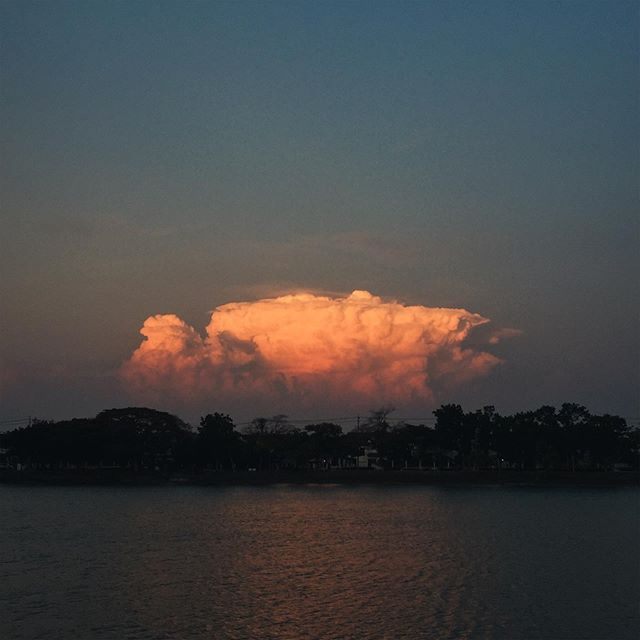river: (1, 483, 617, 640)
sky: (1, 1, 640, 410)
vegetation: (13, 402, 639, 479)
